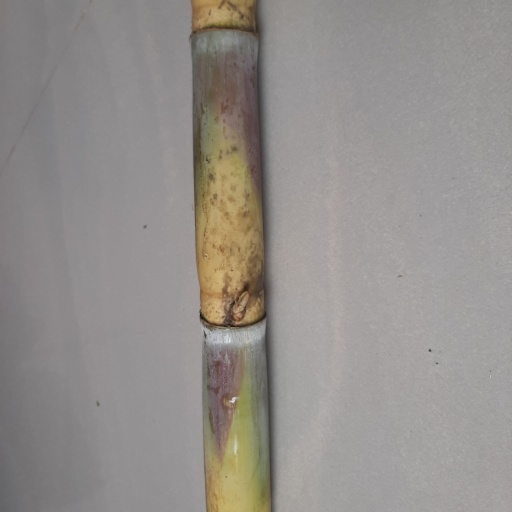Sprouted_Bud: (229, 290, 249, 322)
